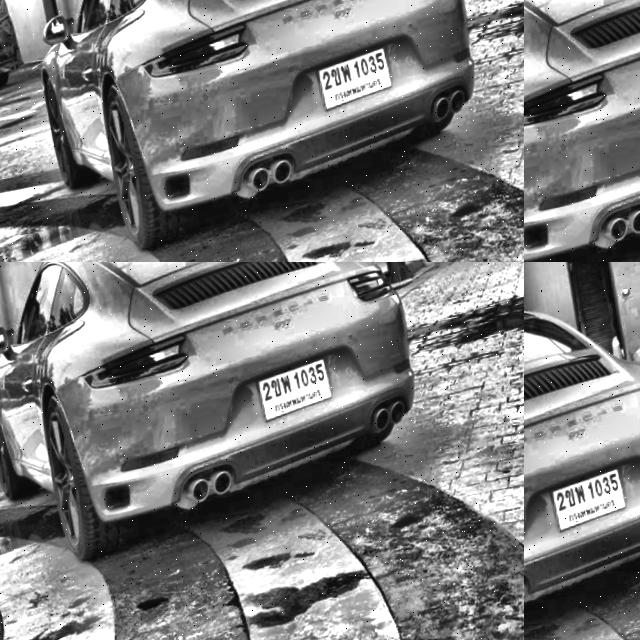license-plate: (542, 458, 640, 540)
